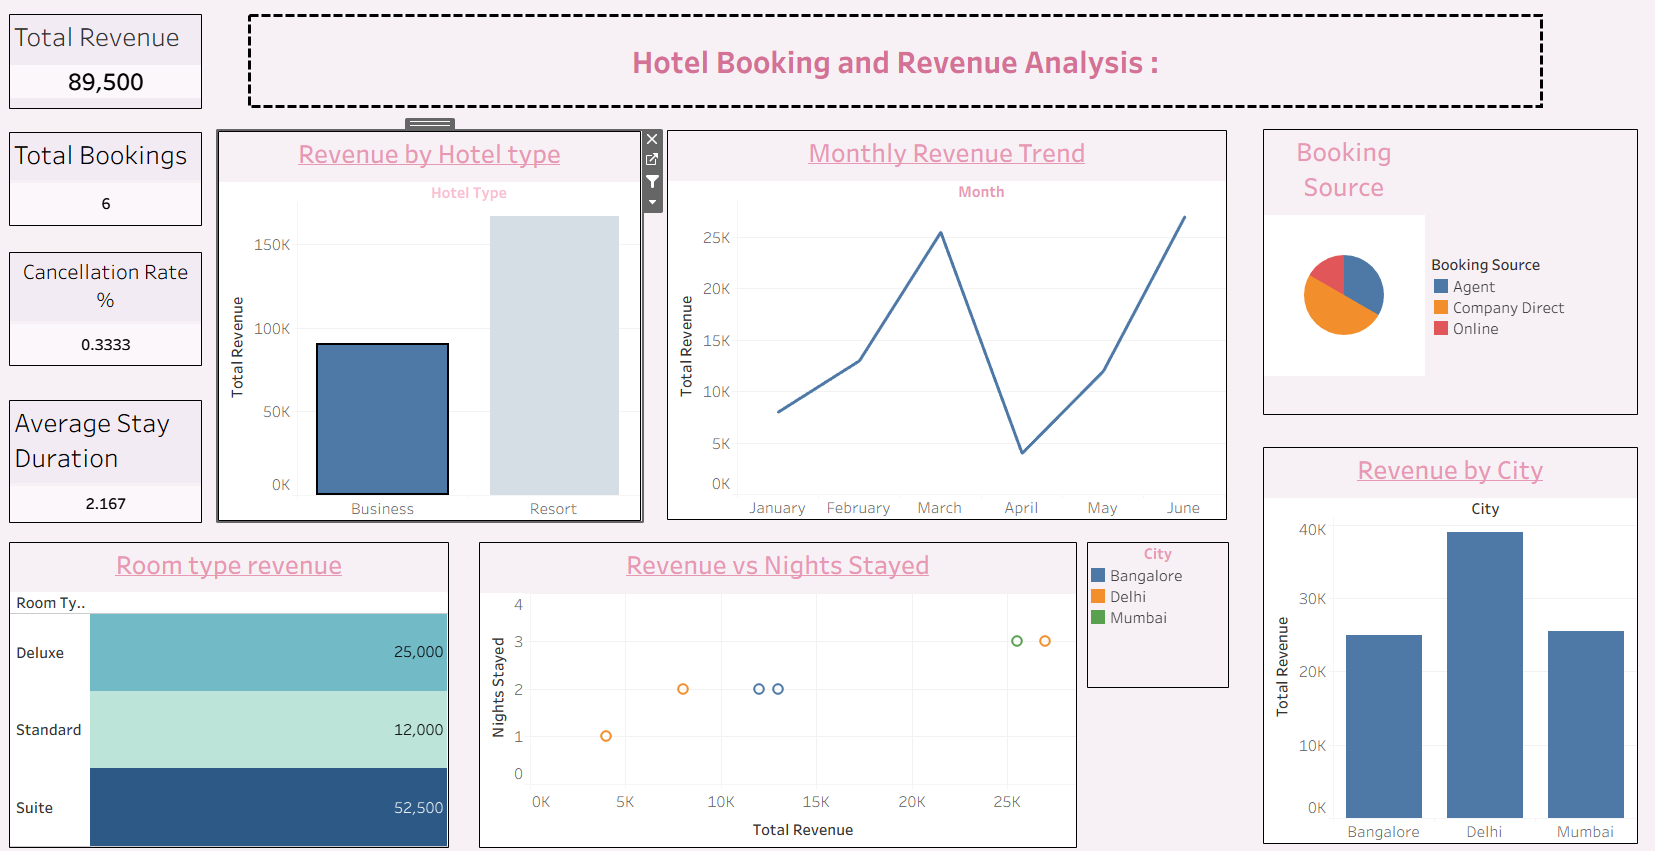

What the dashboard file says about the page in this screenshot:
{"tool":"tableau","page":{"name":"Dashboard 1","canvas":[1000,1000],"units":"permille","ordinal":0},"visuals":[{"type":"dashboard-object","box":[0,9.3,14.4,27.9]},{"type":"worksheet","title":"Total Revenue","mark":"Text","box":[6,18,116.5,110.7]},{"type":"title","box":[150.3,18.6,781.7,109.2]},{"type":"worksheet","title":"Booking Source Distribution","mark":"Pie","box":[763.1,152.2,226.1,332.2]},{"type":"worksheet","title":"Monthly Revenue Trend","mark":"Line","rows":["Total Revenue"],"cols":["Month"],"box":[403.1,153.2,338,453]},{"type":"worksheet","title":"Revenue by Hotel type","mark":"Automatic","rows":["Total Revenue"],"cols":["Hotel Type"],"box":[132.3,154.4,255.6,453]},{"type":"worksheet","title":"Total Bookings","mark":"Automatic","box":[6,155.7,116.5,109.4]},{"type":"worksheet","title":"Cancellation Rate %","mark":"Automatic","box":[6,295,116.5,132.4]},{"type":"legend","title":"Booking Source Distribution","param":"[federated.0rbwcps0xhai4h170xqt907jn593].[none:Booking Source:nk]","box":[864.1,297.3,84.8,109.4]},{"type":"worksheet","title":"Average Stay Duration","mark":"Automatic","box":[6,467.2,116.5,142.9]},{"type":"worksheet","title":"Revenue by City","mark":"Automatic","rows":["Total Revenue"],"cols":["City"],"box":[763.1,521.5,226.1,461.1]},{"type":"legend","title":"Revenue vs Nights Stayed","param":"[federated.0rbwcps0xhai4h170xqt907jn593].[none:City:nk]","box":[656.6,631.8,86,169.6]},{"type":"worksheet","title":"Room type revenue","mark":"Square","rows":["Room Type"],"box":[6,631.9,265.8,355.2]},{"type":"worksheet","title":"Revenue vs Nights Stayed","mark":"Automatic","rows":["Nights Stayed"],"cols":["Total Revenue"],"box":[289.8,631.9,360.8,355.2]}]}

Visuals, with their boxes on the dashboard's canvas, which has no fixed pixel size, in thousandths of its width and height (x1, y1, x2, y2). These are canvas units, not pixel positions in the 1655x851 screenshot, which may show the page scaled, cropped or inside an application window:
dashboard-object: [0,9,14,37]
"Total Revenue" worksheet (Text marks): [6,18,122,129]
title: [150,19,932,128]
"Booking Source Distribution" worksheet (Pie marks): [763,152,989,484]
"Monthly Revenue Trend" worksheet (Line marks): [403,153,741,606]
"Revenue by Hotel type" worksheet: [132,154,388,607]
"Total Bookings" worksheet: [6,156,122,265]
"Cancellation Rate %" worksheet: [6,295,122,427]
"Booking Source Distribution" legend: [864,297,949,407]
"Average Stay Duration" worksheet: [6,467,122,610]
"Revenue by City" worksheet: [763,522,989,983]
"Revenue vs Nights Stayed" legend: [657,632,743,801]
"Room type revenue" worksheet (Square marks): [6,632,272,987]
"Revenue vs Nights Stayed" worksheet: [290,632,651,987]
